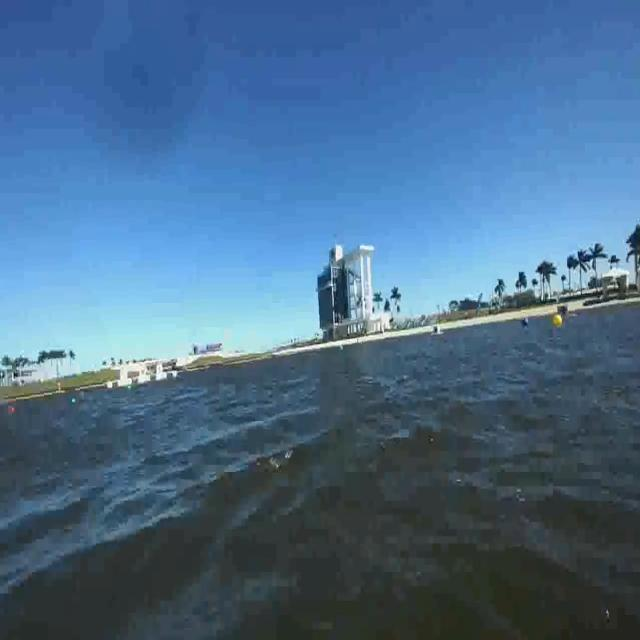yellow-buoy: (554, 313, 564, 328)
